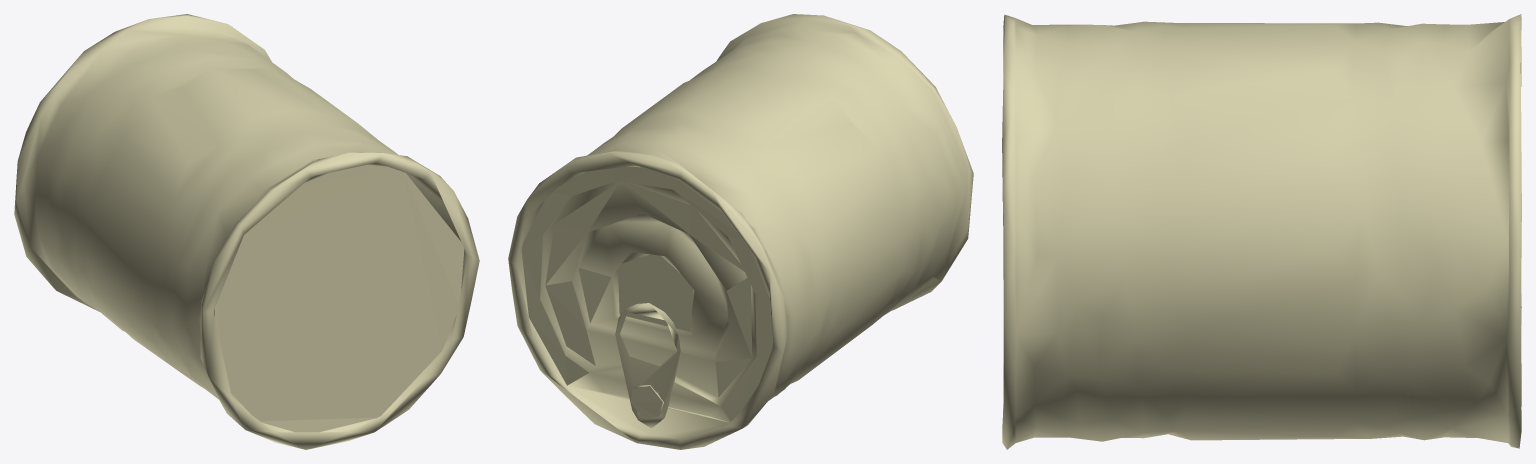
Rendered from COL_Obj_4_Can_Coll.dae.
The picture shows the model from 3 angles, left to right: view 1: azimuth 30°, elevation 25°; view 2: azimuth 150°, elevation 25°; view 3: azimuth 270°, elevation 25°; orthographic projection. The views are drawn at different scales.
Visible parts, largest first — view 1: COL_Obj_4_Can_Coll; view 2: COL_Obj_4_Can_Coll; view 3: COL_Obj_4_Can_Coll.
Boxes of the visible parts, x1,y1,x2,y2 form: COL_Obj_4_Can_Coll: [14, 14, 479, 449]; COL_Obj_4_Can_Coll: [508, 14, 973, 449]; COL_Obj_4_Can_Coll: [1002, 14, 1521, 449].
Size of the model in its own units: 2.43 by 2.89 by 2.44.
